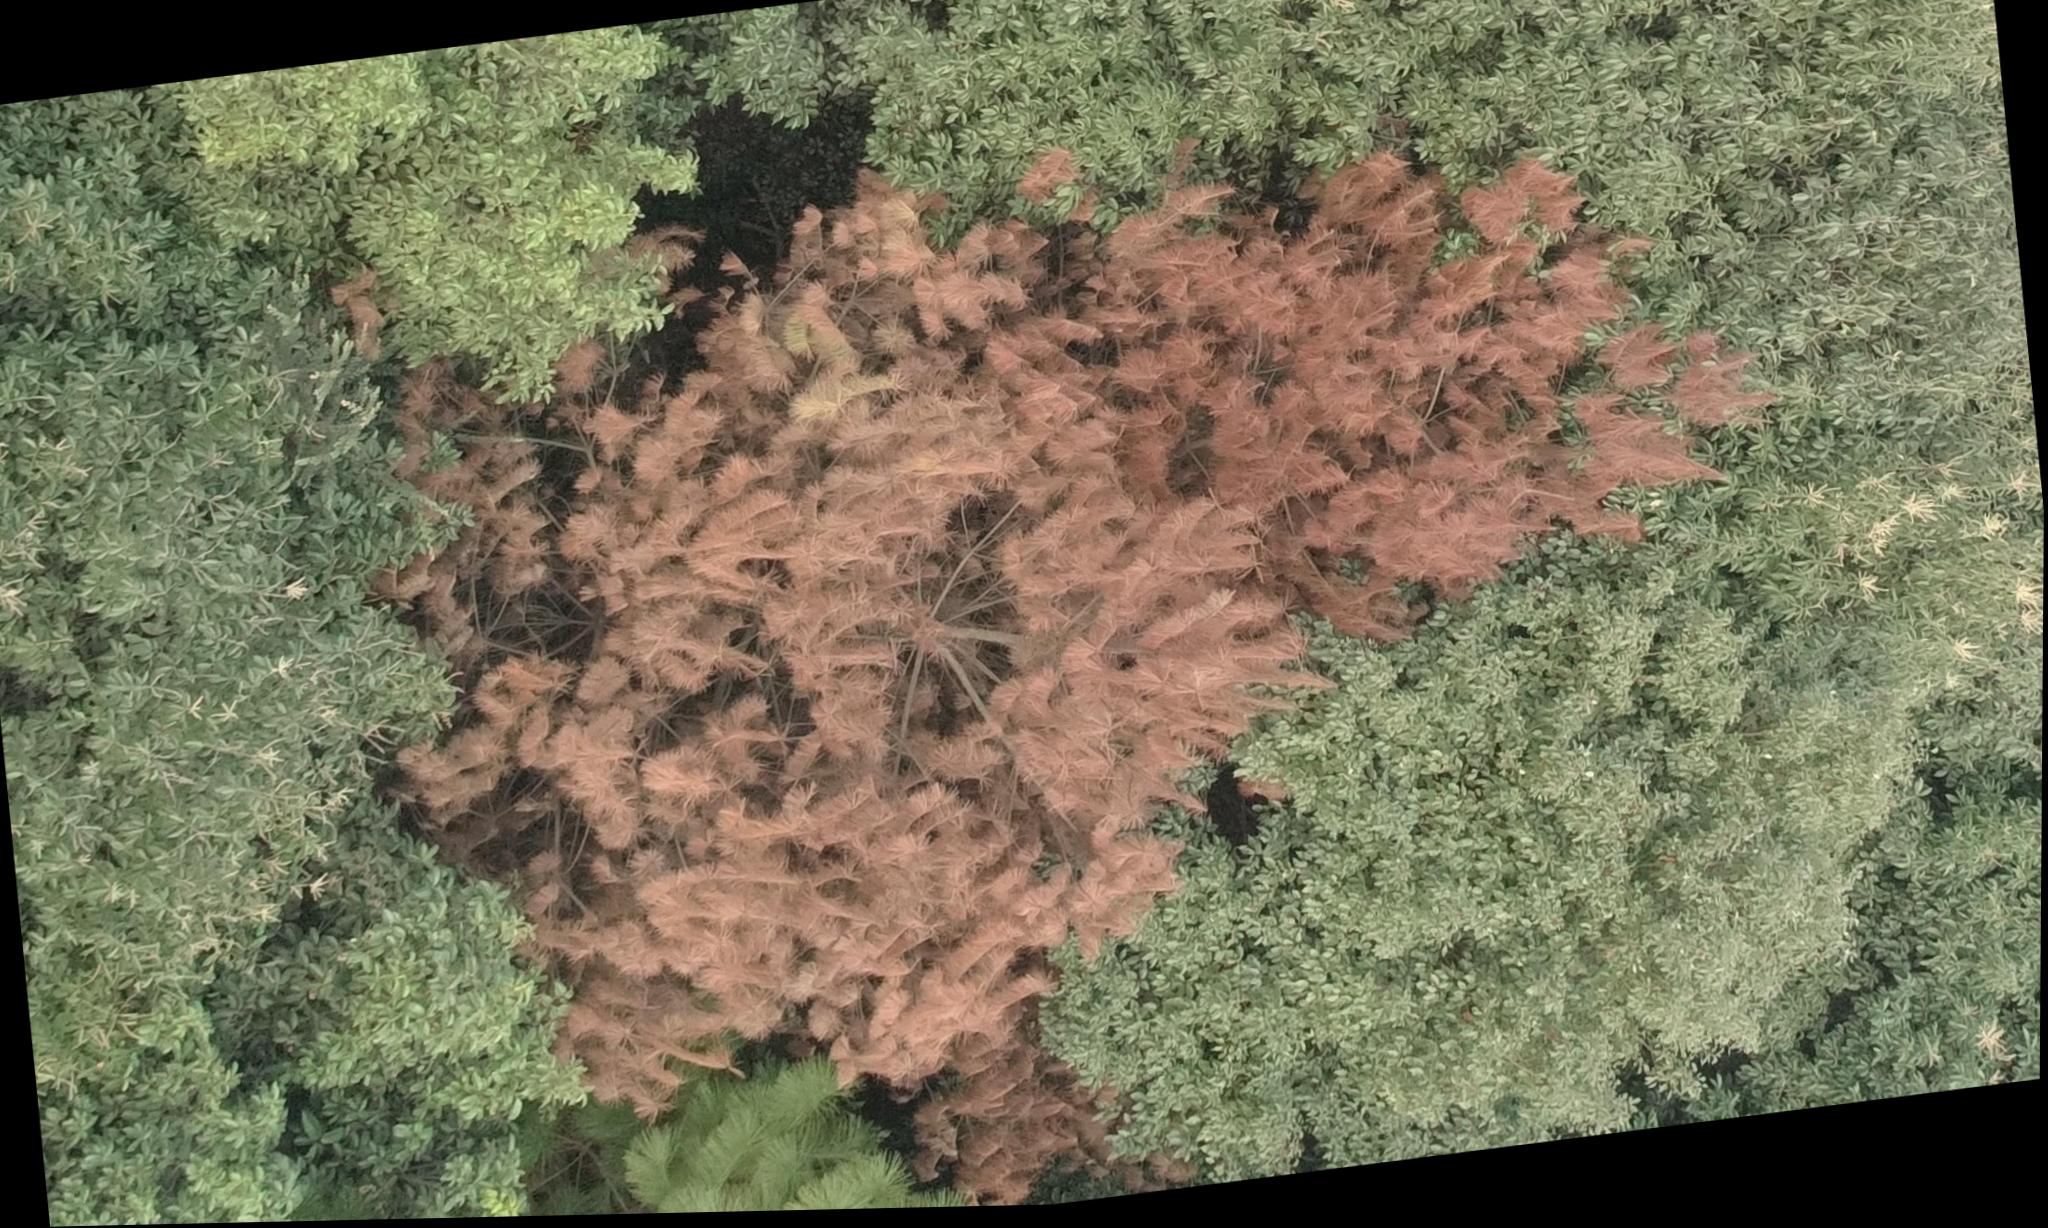heavy: (327, 111, 1801, 1127)
